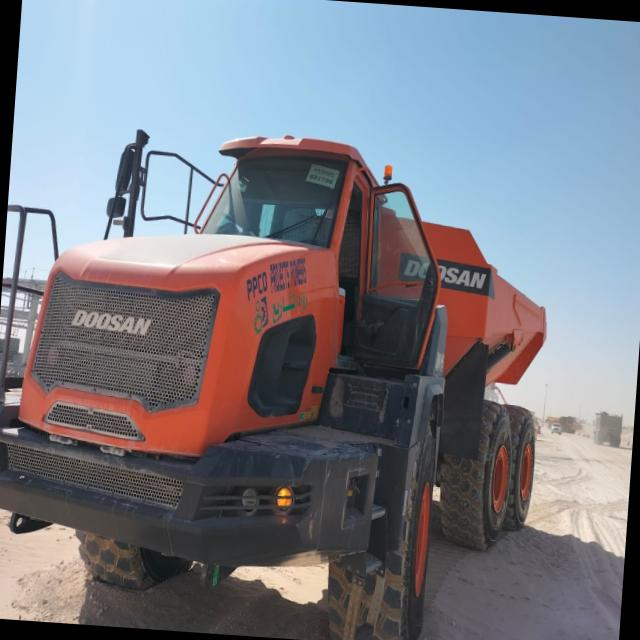Dump Truck: (0, 101, 563, 640)
